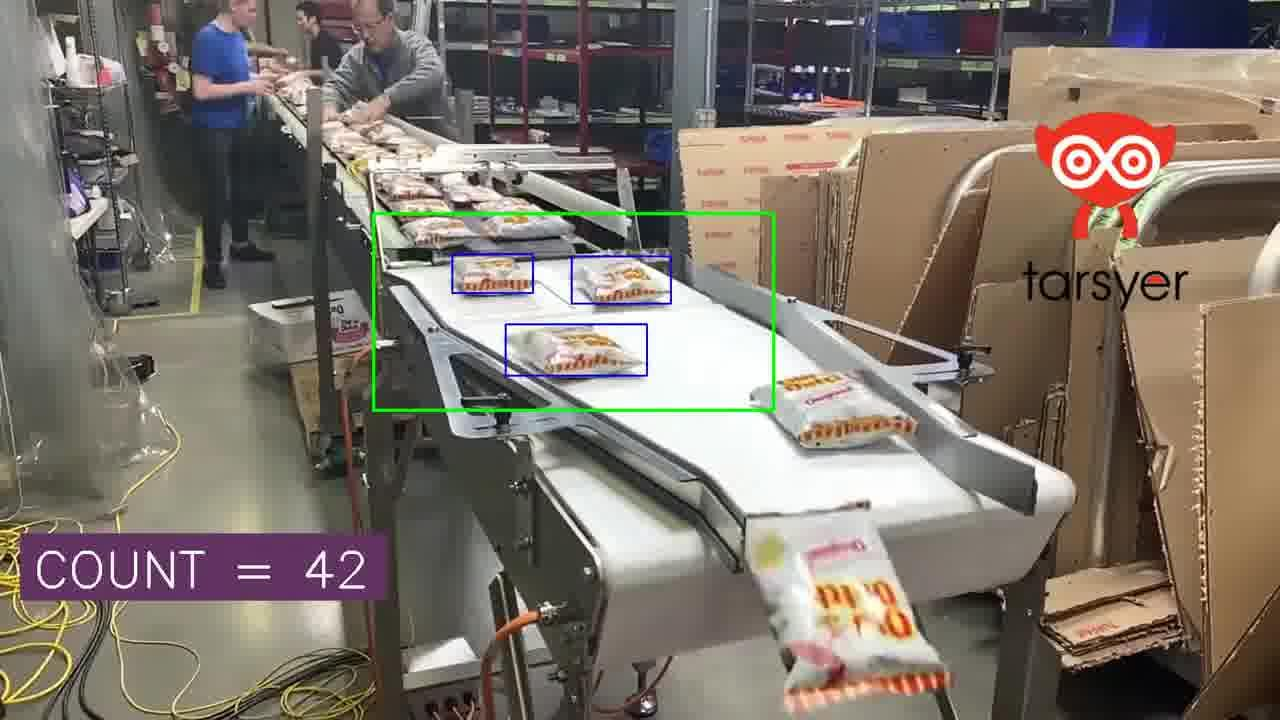Snack: (747, 508, 951, 711), (773, 373, 917, 448), (511, 326, 642, 375), (576, 259, 671, 302), (455, 256, 532, 292), (403, 218, 479, 247), (482, 215, 573, 239), (377, 174, 441, 200), (445, 184, 503, 205), (324, 129, 368, 152), (474, 197, 541, 211), (334, 142, 384, 160), (362, 124, 406, 144), (389, 198, 449, 212), (349, 114, 383, 138), (353, 146, 392, 166), (439, 172, 468, 187), (322, 121, 345, 135)
